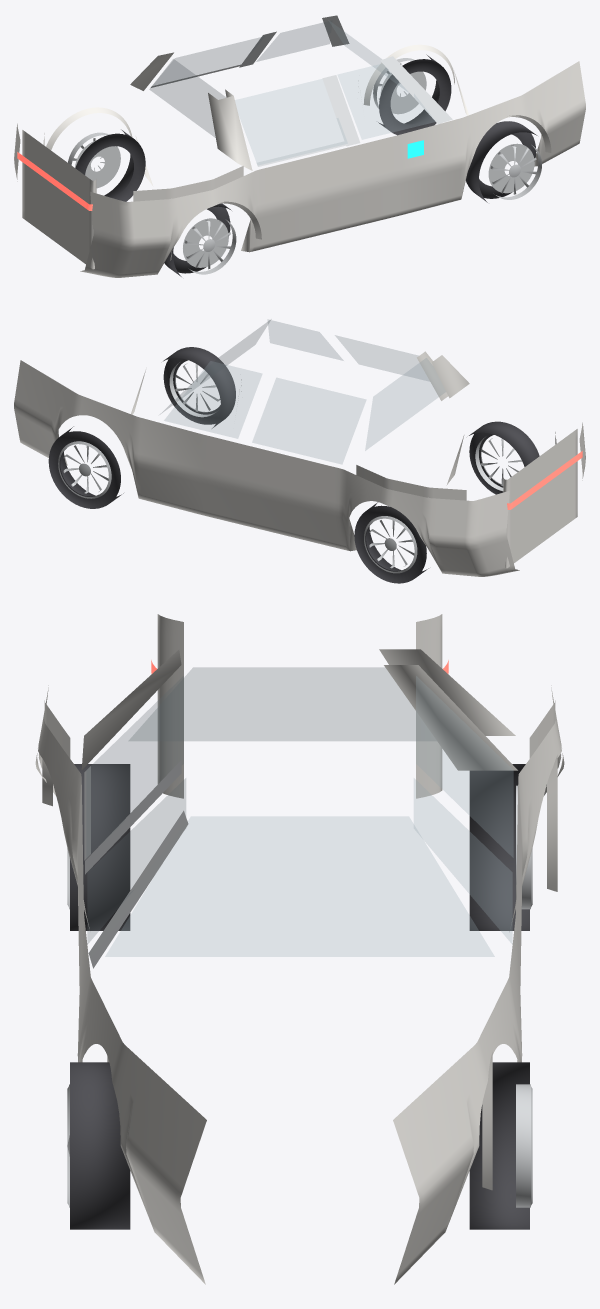
File: ev-sedan.glb
3 views of the same model, one above another, from view 1: azimuth 30°, elevation 25°; view 2: azimuth 150°, elevation 25°; view 3: azimuth 270°, elevation 25° (orthographic). The views are drawn at different scales.
Parts seen in each view (by area): view 1: EvSedan; view 2: EvSedan; view 3: EvSedan.
Boxes of the visible parts, box(x1,y1,x2,y2) form: EvSedan: box(14, 15, 585, 277); EvSedan: box(14, 319, 585, 583); EvSedan: box(35, 614, 564, 1284).
Size of the model in its own units: 5 by 1.48 by 2.28.
